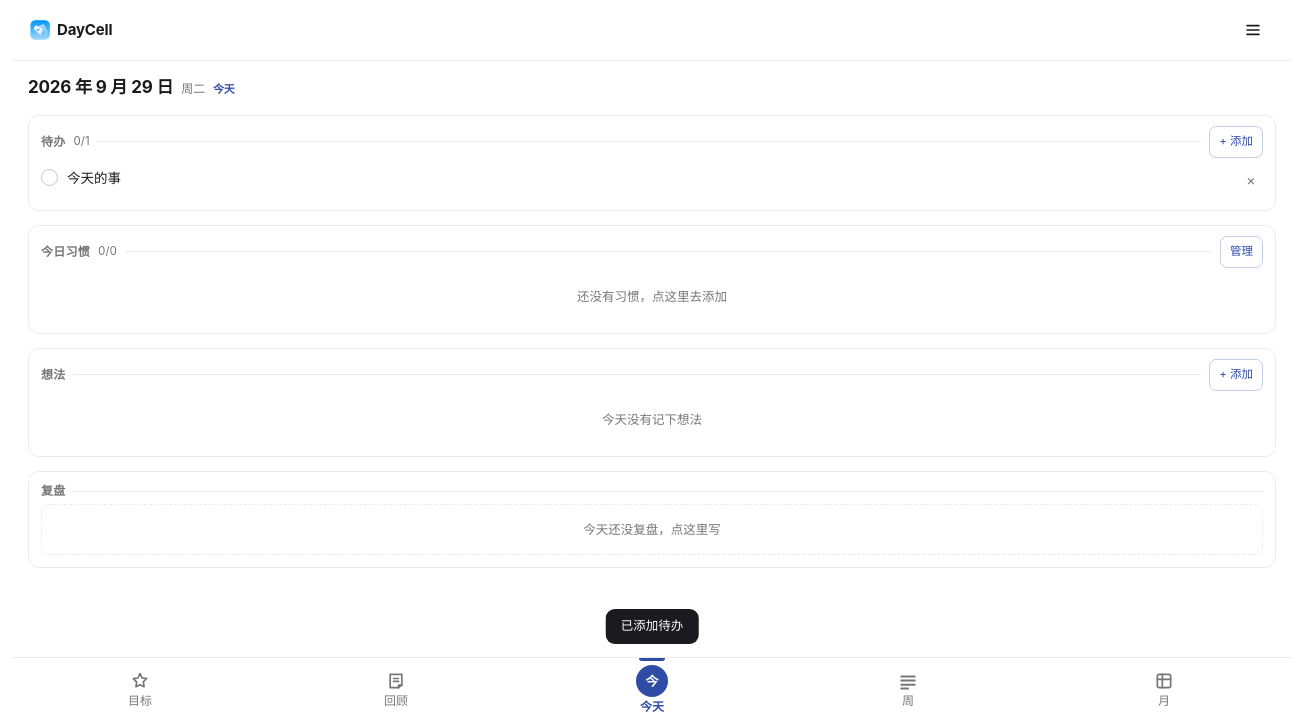
Test case: App 冒烟 › v8.36 换日（点月格）落地：中间屏不闪旧日内容（标题新日、内容旧日的错位已杜绝）
Check: the text "今天的事" is shown, box [67, 170, 121, 186]
// 切月视图 → 点 10/1 格子（宽屏：右栏换日，selected 变 10/1）
Click the tab "月".
click(1164, 689)  # box [1036, 658, 1292, 719]
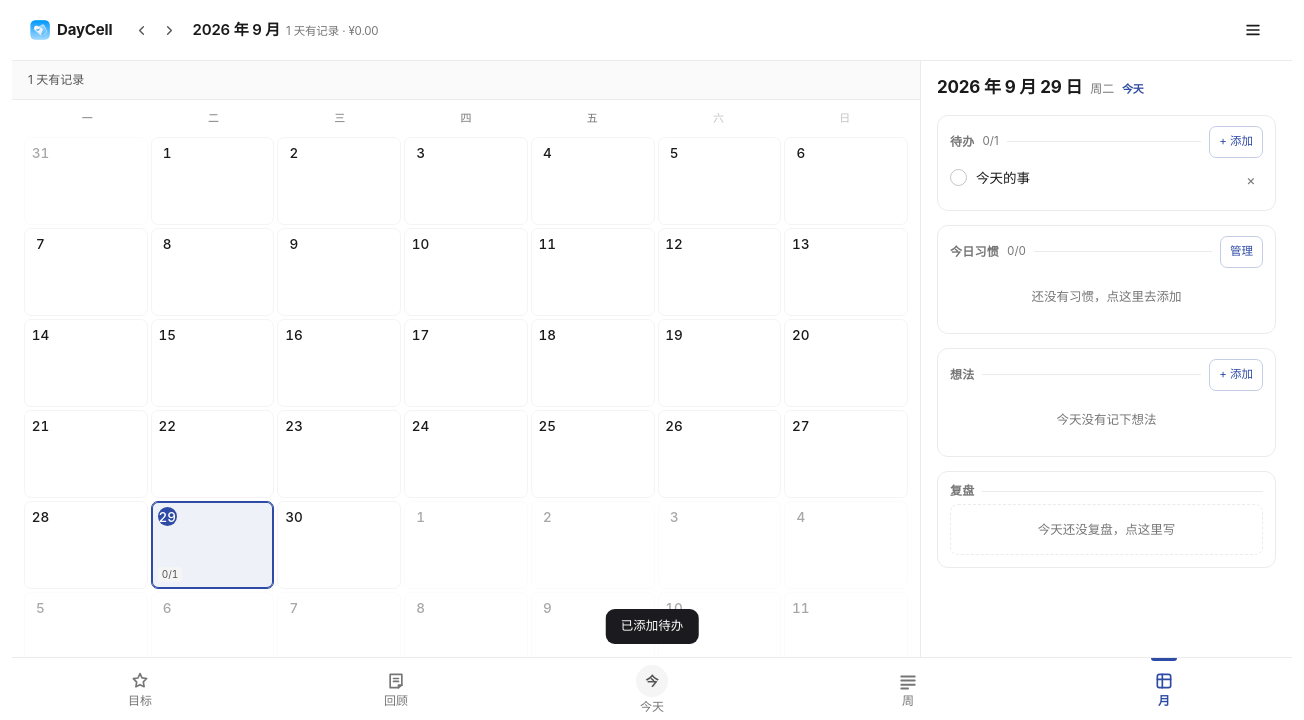
Check: the number of cells is 42
Click the cell named "10月1日".
click(466, 544)  # box [404, 500, 528, 588]
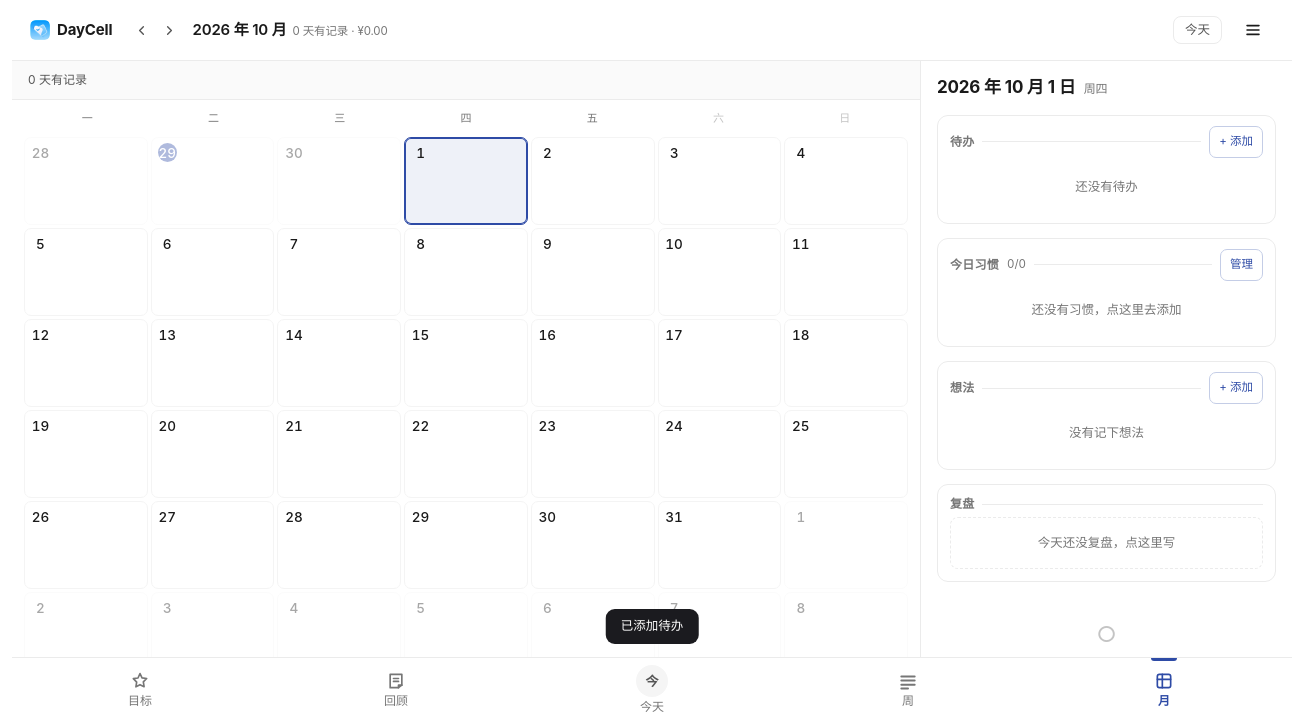
Check: the text "2026 年 10 月 1 日" is shown, box [937, 77, 1107, 97]
Check: the button "今天的事" is gone
